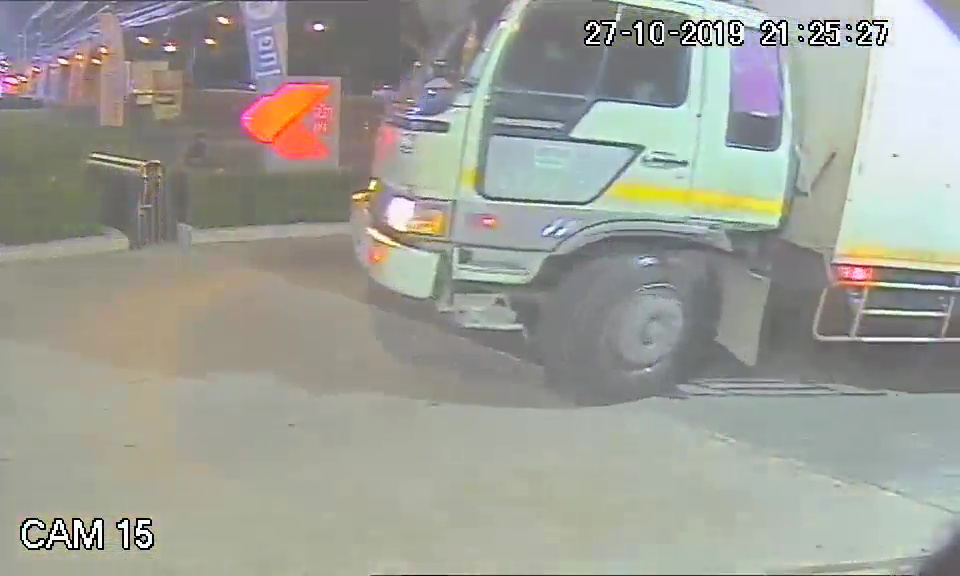truck: (350, 3, 797, 401)
